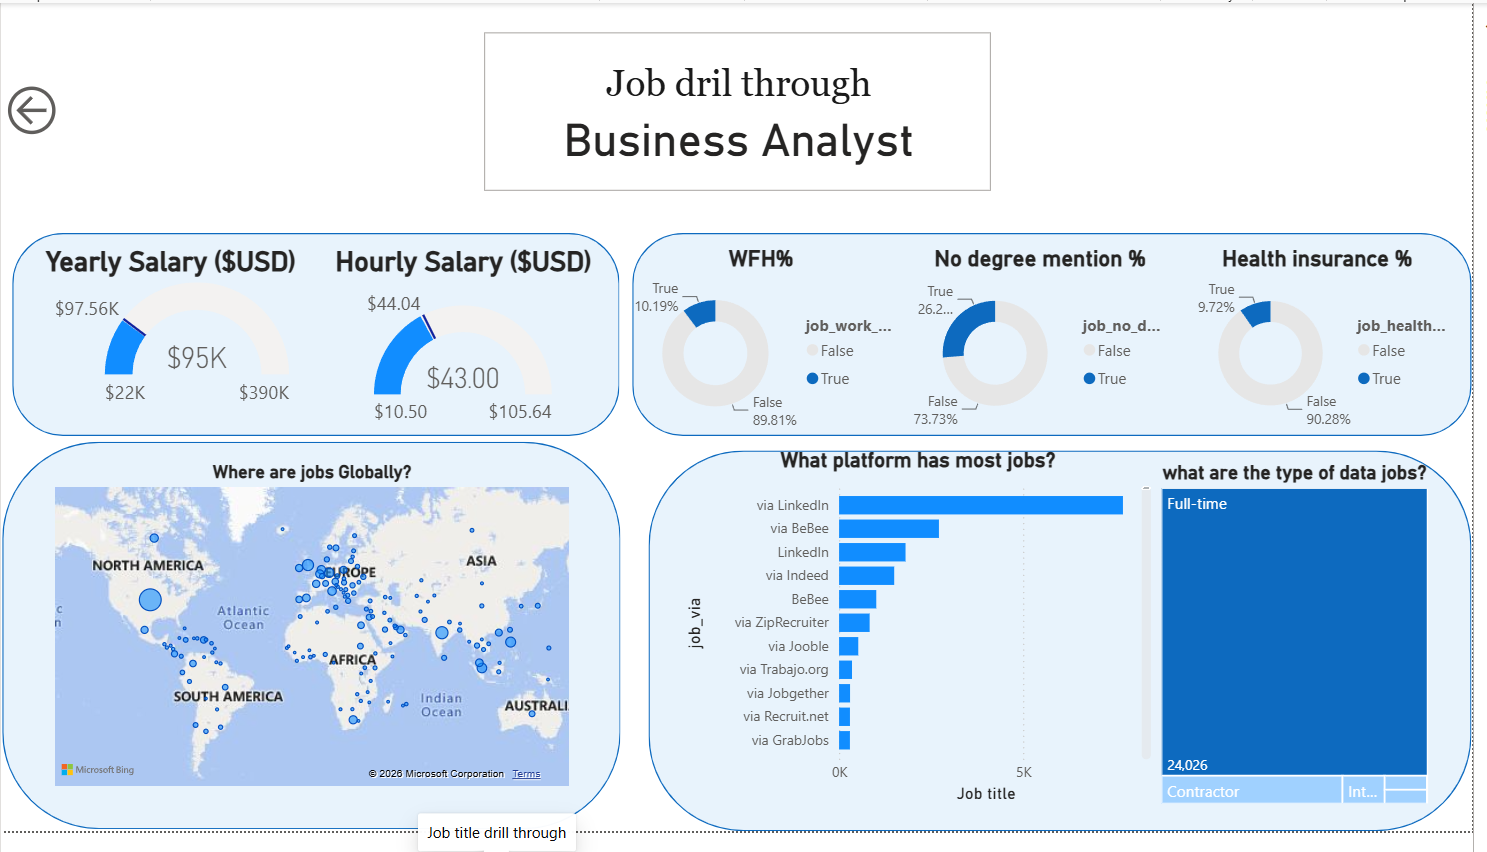

Layout of this report page (visuals, bound fields, positions):
{"tool":"powerbi","page":{"name":"Job title drill through","canvas":[1280,720],"ordinal":1},"visuals":[{"type":"cardVisual","fields":{"Data":["Min(job_postings_flat.job_title_short)"]},"box":[415,20.2,451.2,148.9],"z":0},{"type":"shape","box":[9.6,200.5,528.3,176.5],"z":0,"group":"g1"},{"type":"group","id":"g1","title":"background","box":[1.4,200.5,1278.6,519.8],"z":500},{"type":"actionButton","box":[0,40.5,82.4,107],"z":1000},{"type":"shape","box":[549.9,200.5,730.1,176.5],"z":1000,"group":"g1"},{"type":"gauge","title":"Yearly Salary ($USD)","fields":{"MaxValue":["Max(job_postings_flat.salary_year_avg)2"],"MinValue":["Min(job_postings_flat.salary_year_avg)1"],"TargetValue":["Avg(job_postings_flat.salary_year_avg)3"],"Y":["Median(job_postings_flat.salary_year_avg)"]},"box":[24.6,211.1,244.4,148.9],"z":2000},{"type":"shape","box":[563.9,389.2,715.8,331.1],"z":2000,"group":"g1"},{"type":"gauge","title":"Hourly Salary ($USD)","fields":{"MaxValue":["Max(job_postings_flat.salary_hour_avg)"],"MinValue":["Min(job_postings_flat.salary_hour_avg)"],"TargetValue":["Avg(job_postings_flat.salary_hour_avg)"],"Y":["Median(job_postings_flat.salary_hour_avg)"]},"box":[280.5,211.1,242.9,166.3],"z":3000},{"type":"shape","box":[1.4,381.9,537.9,336.9],"z":3000,"group":"g1"},{"type":"donutChart","title":"Health insurance %","fields":{"Category":["job_postings_flat.job_health_insurance"],"Y":["CountNonNull(job_postings_flat.job_title_short)"]},"box":[1023.8,211.1,241.5,166.3],"z":4000},{"type":"donutChart","title":"No degree mention %","fields":{"Category":["job_postings_flat.job_no_degree_mention"],"Y":["CountNonNull(job_postings_flat.job_title_short)"]},"box":[783.7,211.1,240,166.3],"z":5000},{"type":"donutChart","title":"WFH%","fields":{"Category":["job_postings_flat.job_work_from_home"],"Y":["CountNonNull(job_postings_flat.job_title_short)"]},"box":[537.9,211.1,245.8,166.3],"z":6000},{"type":"map","title":"Where are jobs Globally?","fields":{"Category":["job_postings_flat.job_country"],"Size":["CountNonNull(job_postings_flat.job_title_short)"]},"box":[41.9,399.1,456.9,287.8],"z":7000},{"type":"treemap","title":"what are the type of data jobs?","fields":{"Group":["job_postings_flat.job_schedule_type"],"Values":["CountNonNull(job_postings_flat.job_title_short)"]},"box":[1005,397.7,241.5,303.7],"z":8000},{"type":"barChart","title":"What platform has most jobs?","fields":{"Category":["job_postings_flat.job_via"],"Y":["CountNonNull(job_postings_flat.job_title_short)"]},"box":[590,387.5,415,313.8],"z":9000}]}

Visuals, with their boxes in screenshot pixels (x1, y1, x2, y2), scaled from the page's 1280x720 canvas onto the 1487x852 screenshot:
cardVisual - Min(job_postings_flat.job_title_short): region(482, 24, 1006, 200)
shape: region(11, 237, 625, 446)
"background" group: region(2, 237, 1486, 851)
actionButton: region(0, 48, 96, 175)
shape: region(639, 237, 1486, 446)
"Yearly Salary ($USD)" gauge: region(29, 250, 313, 426)
shape: region(655, 461, 1486, 851)
"Hourly Salary ($USD)" gauge: region(326, 250, 608, 447)
shape: region(2, 452, 627, 851)
"Health insurance %" donutChart: region(1189, 250, 1470, 447)
"No degree mention %" donutChart: region(910, 250, 1189, 447)
"WFH%" donutChart: region(625, 250, 910, 447)
"Where are jobs Globally?" map: region(49, 472, 579, 813)
"what are the type of data jobs?" treemap: region(1168, 471, 1448, 830)
"What platform has most jobs?" barChart: region(685, 459, 1168, 830)
